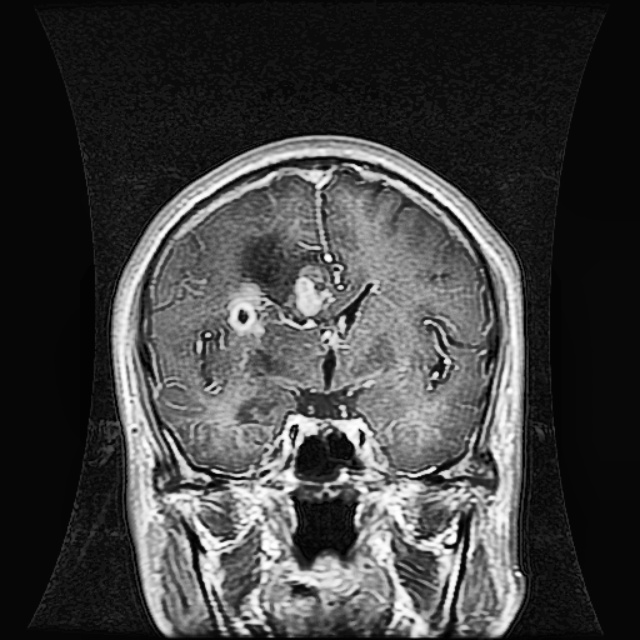Meningioma: (223, 257, 340, 334)
